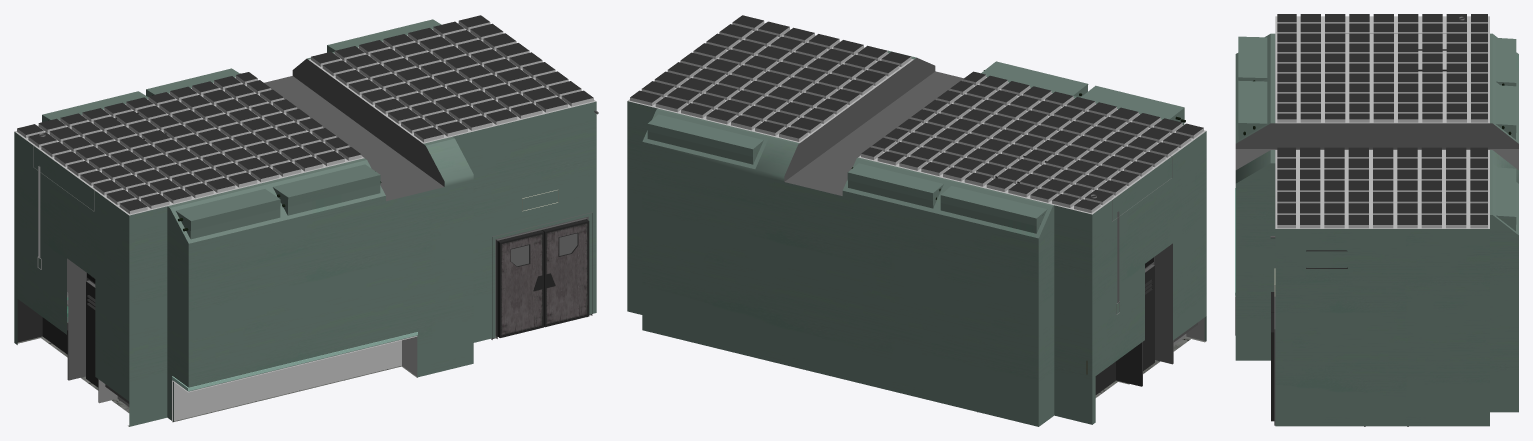
Rendered from LabRoom.fbx.
3 renders of one model, left to right at view 1: azimuth 30°, elevation 25°; view 2: azimuth 150°, elevation 25°; view 3: azimuth 270°, elevation 25°, orthographic. The views are drawn at different scales.
Parts seen in each view (by area): view 1: Box12610, Object6418, Object6417, Object6416, Box12624, Group1581, Group1580, Object6313, Box12626, Box11973, Box11974, Object6314 (+3 smaller); view 2: Box12610, Object6418, Object6417, Object6416, Object6313, Box12626, Object6314; view 3: Box12610, Object6418, Object6417, Object6416, Box11974.
Boxes of the visible parts, box(x1,y1,x2,y2) form: Box12610: box(14, 19, 596, 426); Object6418: box(17, 15, 593, 210); Object6417: box(14, 21, 596, 215); Object6416: box(264, 58, 444, 201); Box12624: box(172, 336, 417, 422); Group1581: box(501, 234, 542, 335); Group1580: box(546, 223, 587, 324); Object6313: box(68, 259, 98, 402); Box12626: box(17, 299, 68, 379); Box11973: box(497, 230, 544, 337); Box11974: box(542, 219, 589, 327); Object6314: box(86, 281, 98, 387); Box12610: box(627, 50, 1206, 426); Object6418: box(630, 15, 1203, 209); Object6417: box(628, 21, 1206, 214); Object6416: box(784, 57, 963, 195); Object6313: box(1142, 243, 1172, 386); Box12626: box(1095, 342, 1141, 394); Object6314: box(1143, 265, 1154, 370); Box12610: box(1235, 33, 1518, 426); Object6418: box(1277, 14, 1487, 224); Object6417: box(1275, 16, 1489, 228); Object6416: box(1235, 123, 1518, 170); Box11974: box(1271, 312, 1274, 421).
Bounding box in the file's own units: 466 × 206 × 261.
Materials: 44 (8 with a texture image).
